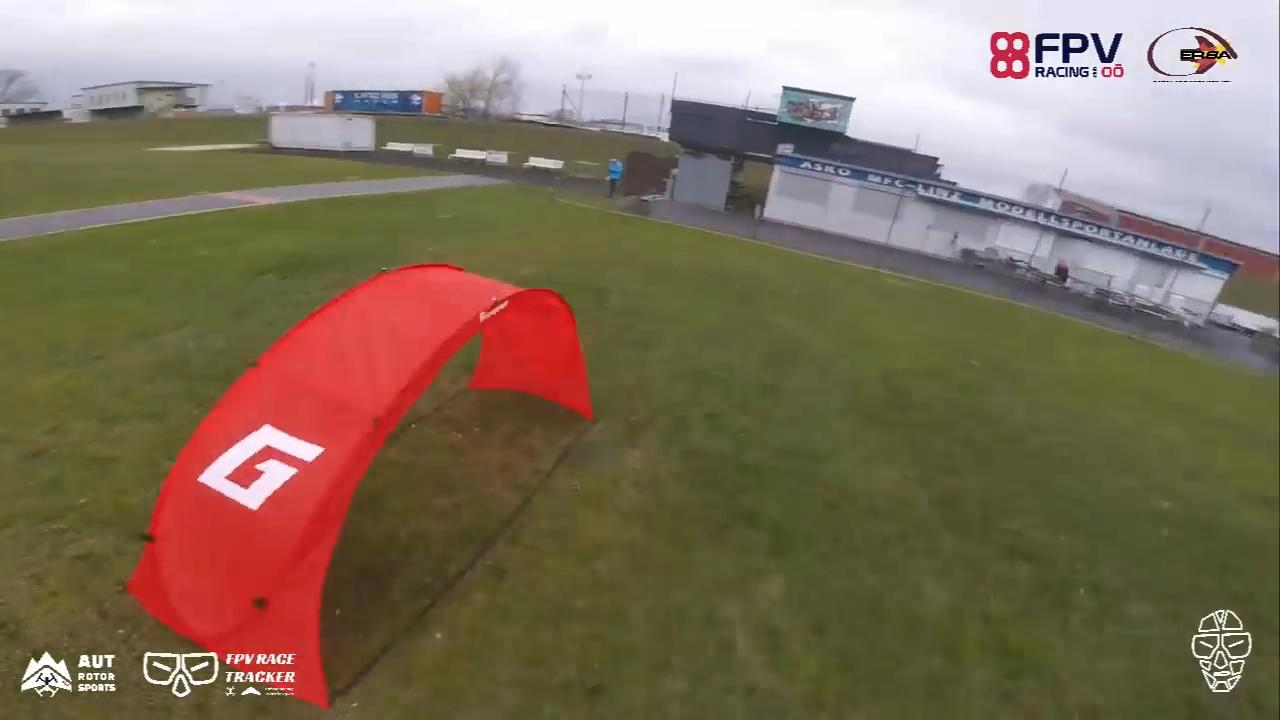gate: (127, 259, 606, 694)
